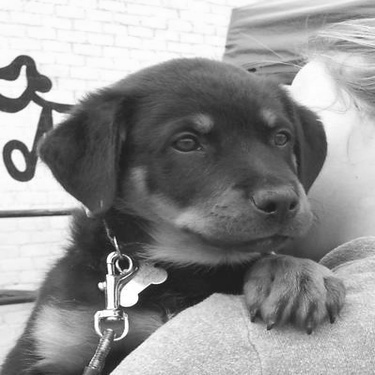dog: (2, 53, 352, 373), (301, 6, 372, 119)
